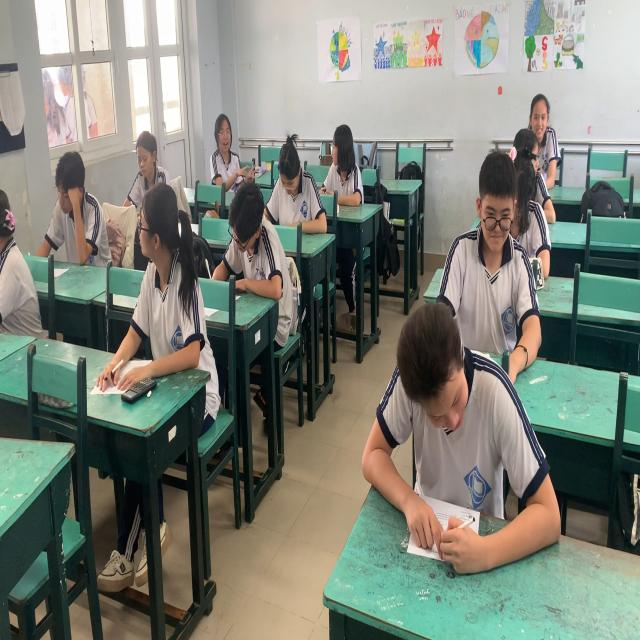cheating: (128, 182, 202, 360), (200, 106, 258, 192), (322, 112, 363, 206)
not_cheating: (363, 305, 538, 540), (454, 154, 540, 371), (217, 178, 282, 302), (48, 133, 100, 271), (268, 123, 326, 236), (120, 125, 169, 178), (524, 88, 548, 136)
